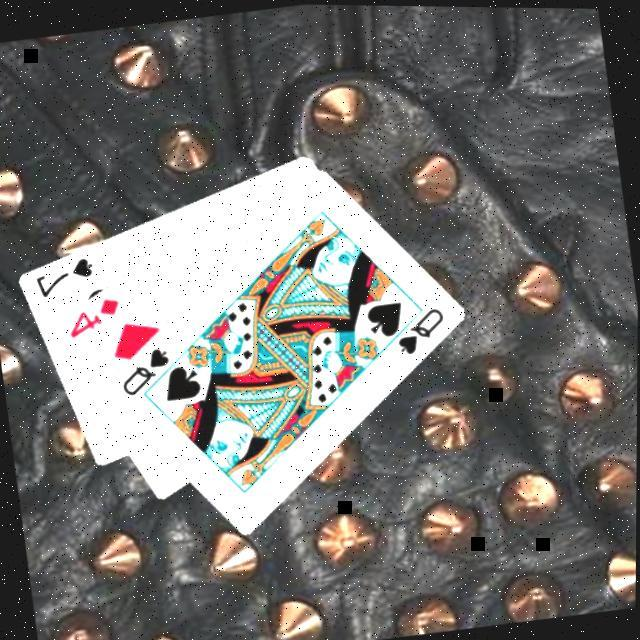4D: (62, 289, 127, 340)
7S: (30, 250, 100, 300)
QS: (115, 341, 177, 399), (390, 299, 452, 357)
